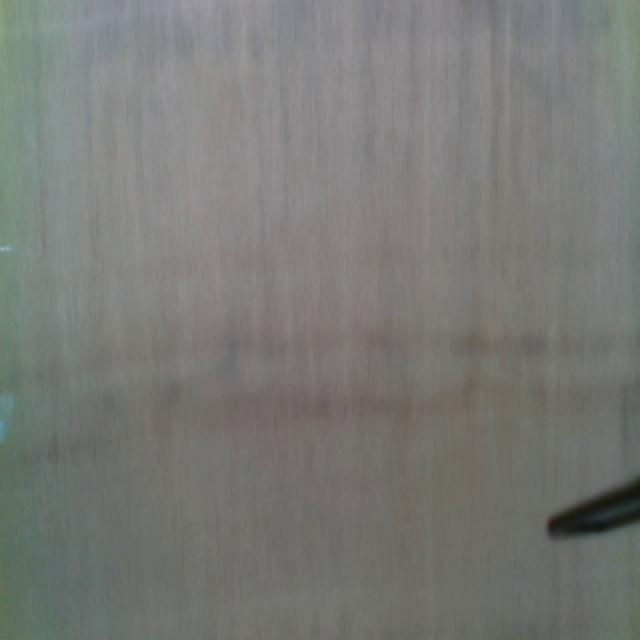color bleeding: (1, 322, 640, 476)
